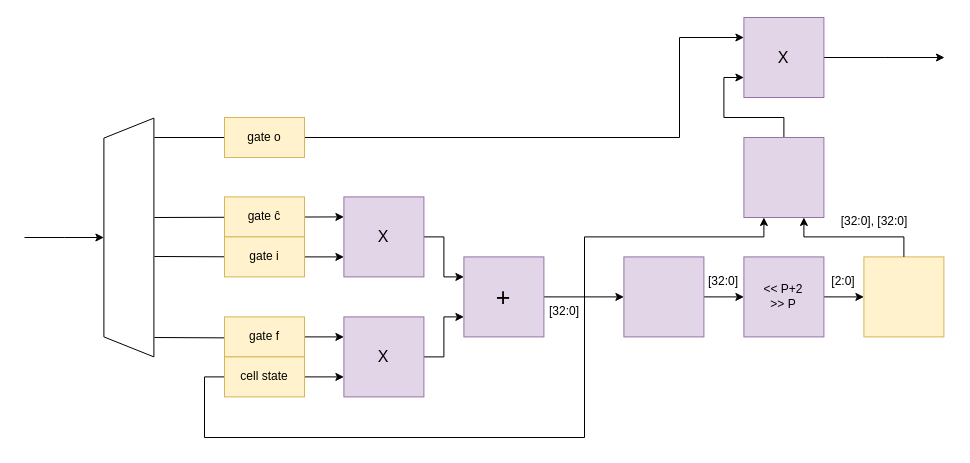
Some shapes in this 970 by 463 pixel diagram are drawn without their labels. The box of each missing label's shape, as (x1, y1, x2, y2) in pixels:
ABS: (623, 256, 704, 337)
LUT 8x64: (863, 256, 944, 337)
MAC y = mx + q: (743, 136, 824, 218)
